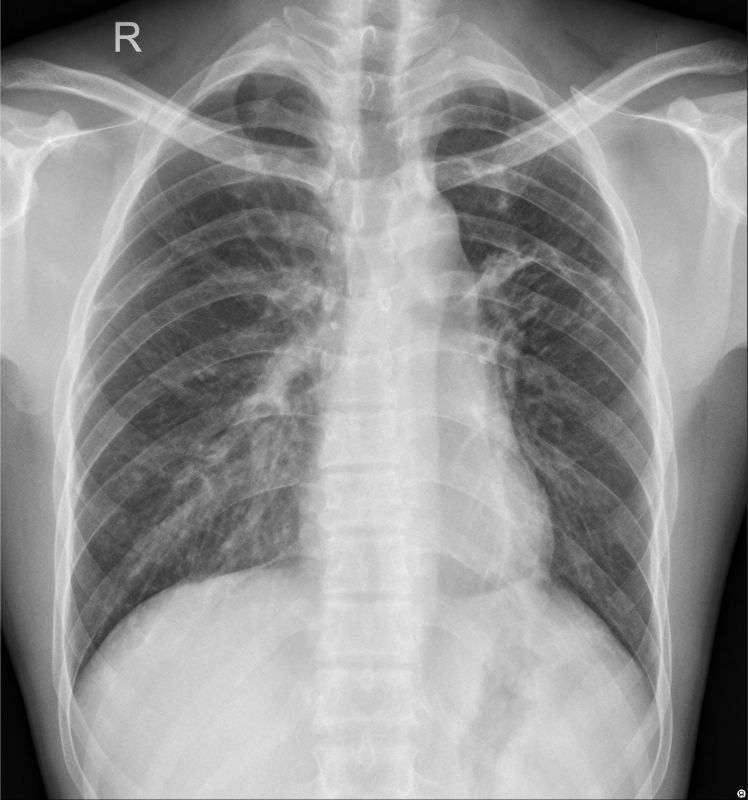Tuberculosis (TB): (503, 239, 625, 334), (461, 149, 536, 211)
